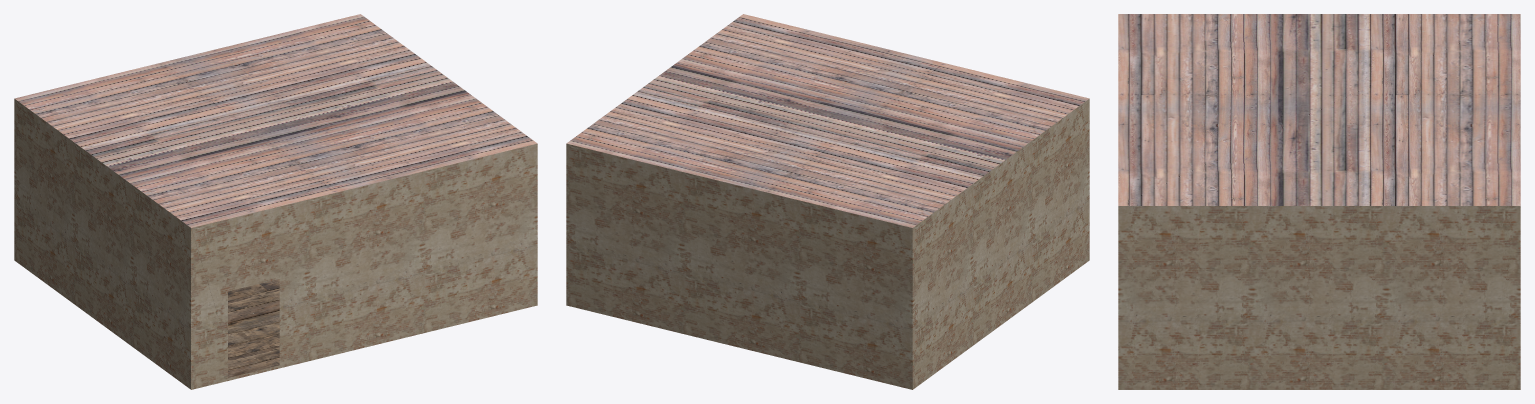
Rendered from Sotano.obj.
3 renders of one model, left to right at view 1: azimuth 30°, elevation 25°; view 2: azimuth 150°, elevation 25°; view 3: azimuth 270°, elevation 25°, orthographic. The views are drawn at different scales.
Parts seen in each view (by area): view 1: Sotano:pCube1; view 2: Sotano:pCube1; view 3: Sotano:pCube1.
Boxes of the visible parts, x1,y1,x2,y2 form: Sotano:pCube1: [14, 14, 537, 389]; Sotano:pCube1: [566, 14, 1089, 389]; Sotano:pCube1: [1118, 14, 1520, 389].
Bounding box in the file's own units: 40.88 × 18.26 × 36.19.
3 materials, 3 textured.
